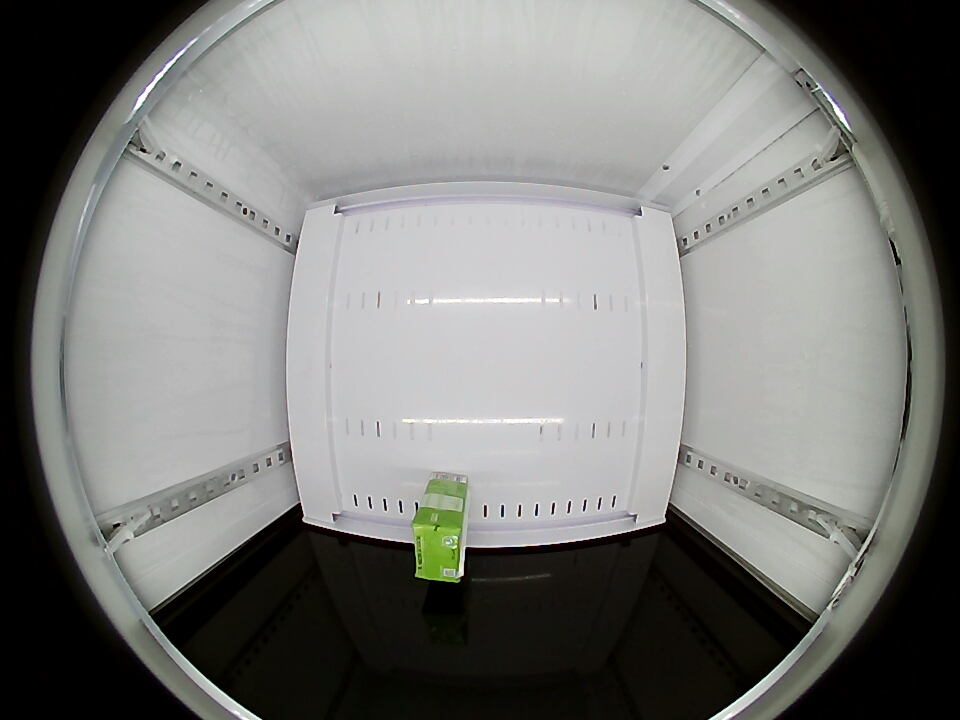mengniuzaocan: (413, 511, 466, 582)
